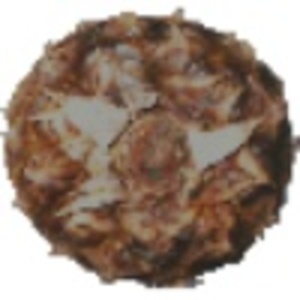abacaxi: (2, 9, 297, 278)
